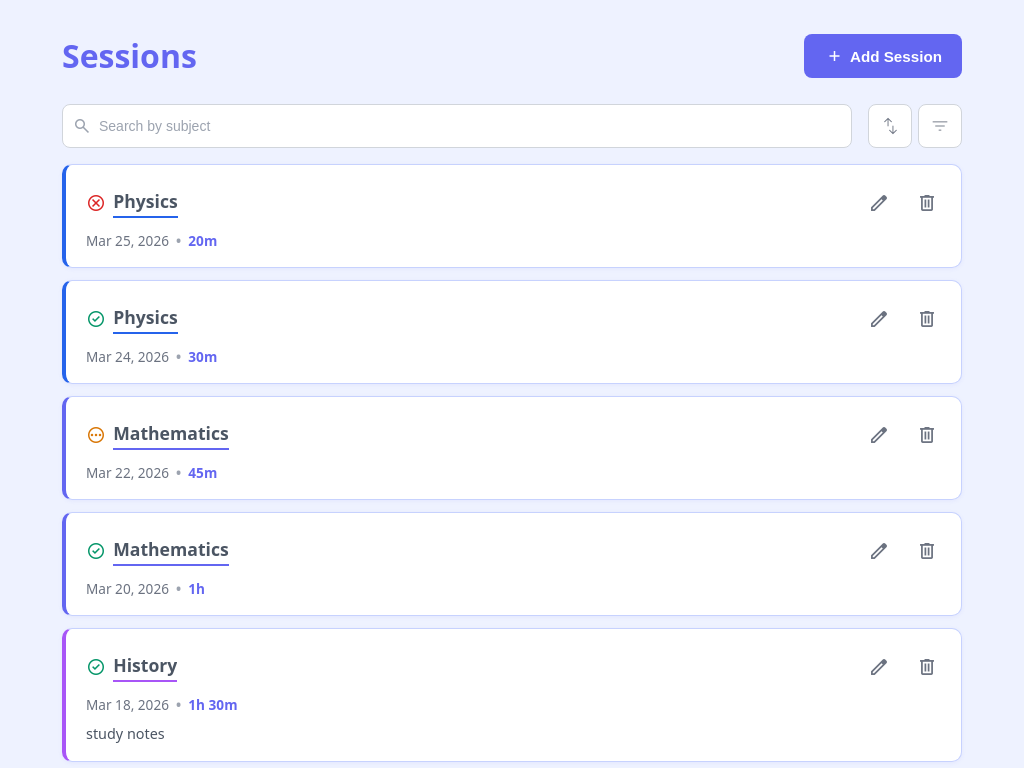
Test case: Sessions – Toolbar (search, sort, filter) › filter dropdown › shows subject dropdown with all unique subjects
Click the button named "filter sessions".
click(940, 126)  # box top-left (918, 104), bottom-right (962, 148)
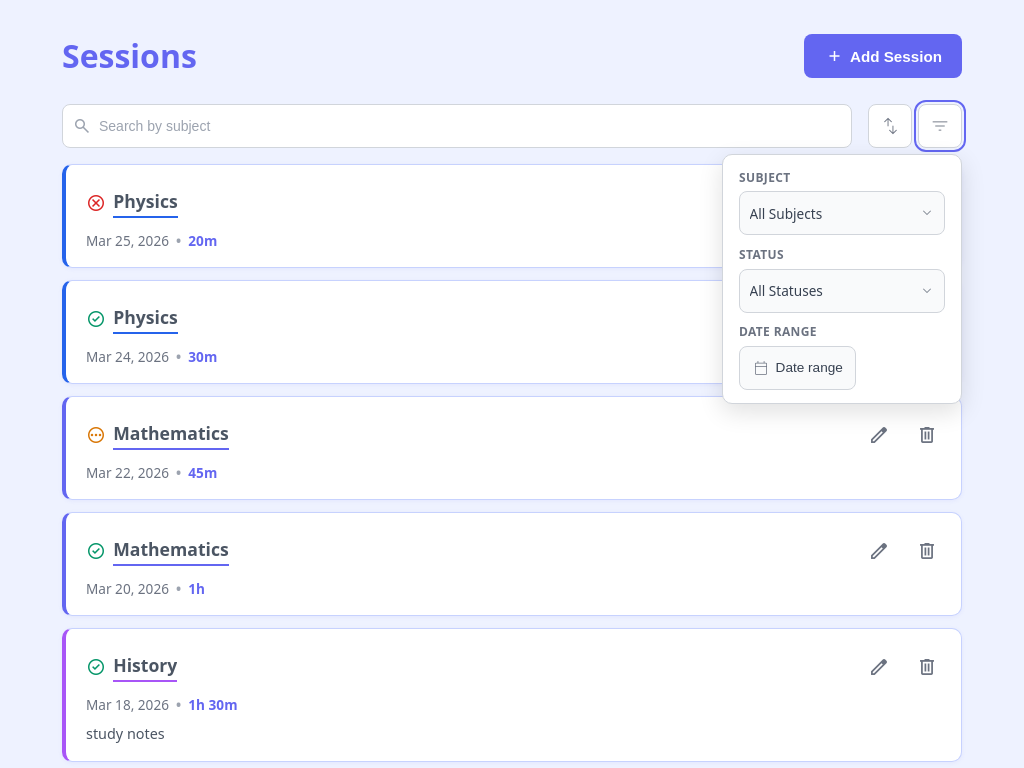
Click the button labelled "All Subjects".
click(842, 213)  # box top-left (739, 191), bottom-right (945, 235)
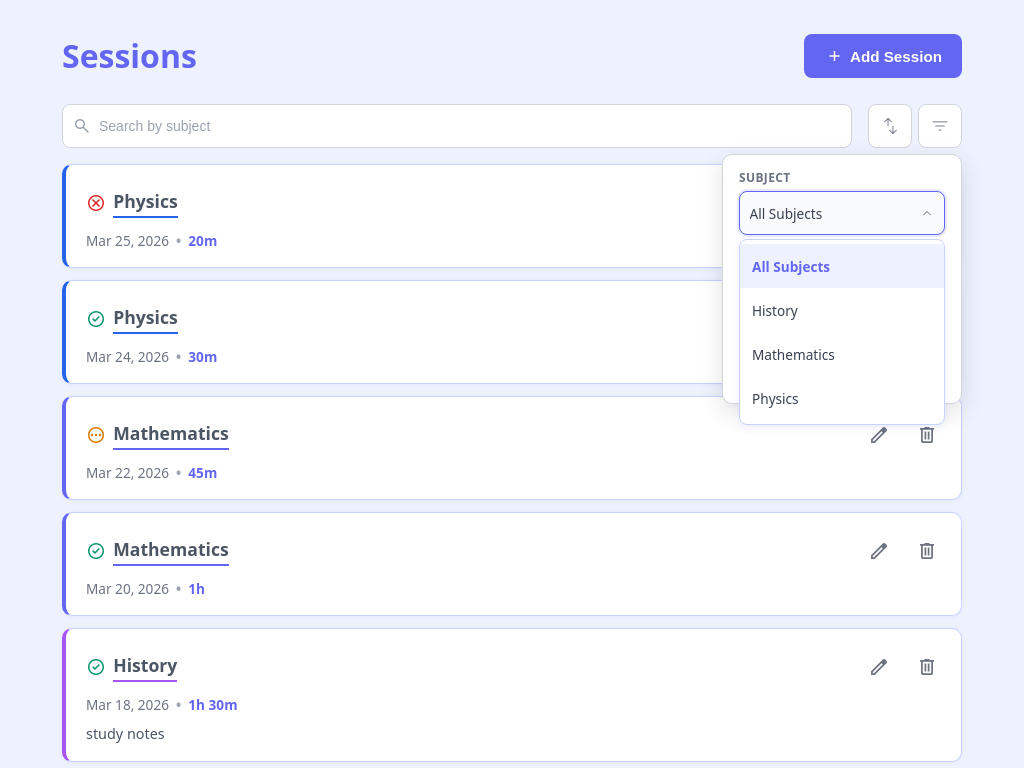
Check: the number of options is 4, box top-left (740, 244), bottom-right (944, 288); top-left (740, 288), bottom-right (944, 332); top-left (740, 332), bottom-right (944, 376); top-left (740, 376), bottom-right (944, 420)
Check: the options read "All Subjects", "History", "Mathematics", "Physics", in this order, box top-left (740, 244), bottom-right (944, 288); top-left (740, 288), bottom-right (944, 332); top-left (740, 332), bottom-right (944, 376); top-left (740, 376), bottom-right (944, 420)
